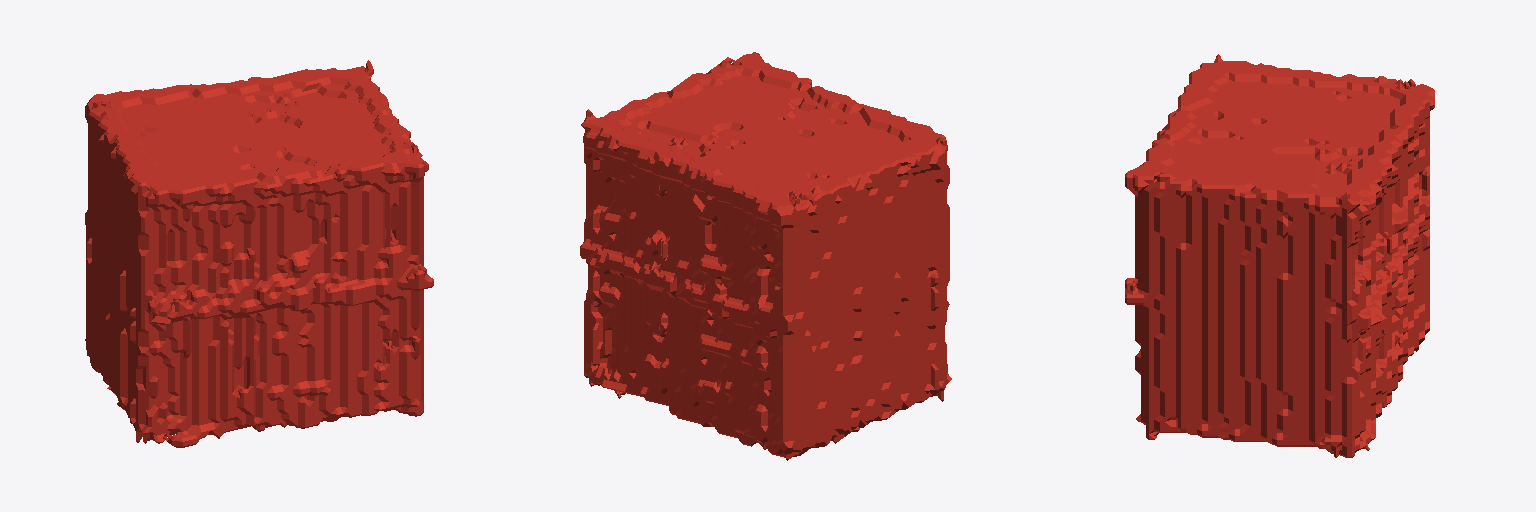
The model's file is gen7_colored.obj.
The picture shows the model from 3 angles: view 1: azimuth 30°, elevation 25°; view 2: azimuth 150°, elevation 25°; view 3: azimuth 270°, elevation 25°; orthographic projection.
Parts seen in each view (by area): view 1: gen7.obj; view 2: gen7.obj; view 3: gen7.obj.
Part boxes in pixels (x1,y1,x2,y2): gen7.obj: (85,60,433,447); gen7.obj: (580,52,951,460); gen7.obj: (1125,54,1434,457).
Bounding box in the file's own units: 64 × 56 × 58.